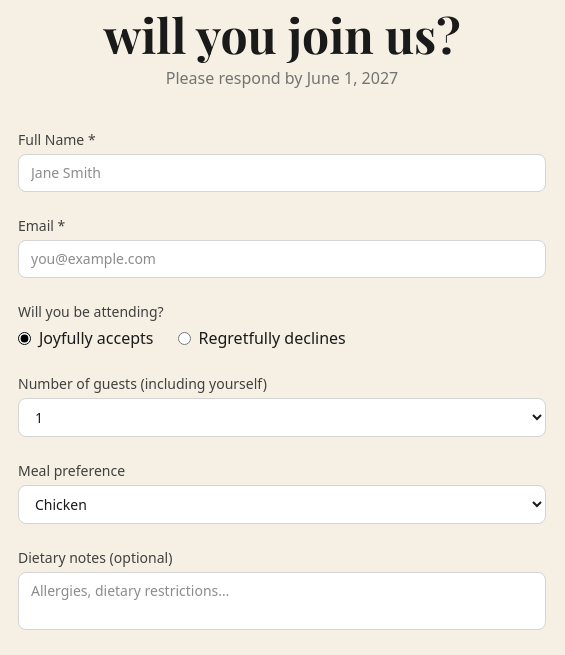
it: RSVPPage › shows validation error for empty name on blur
Click the field with placeholder "Jane Smith" at coordinates (282, 173), box [18,154,546,192]
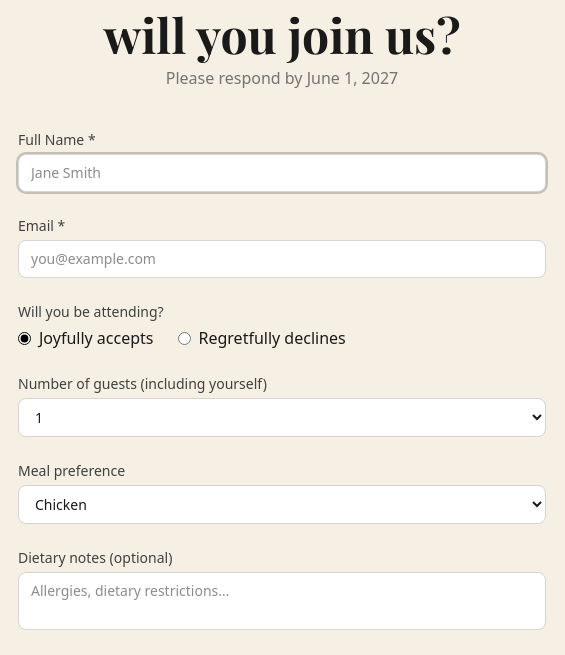
Press Tab
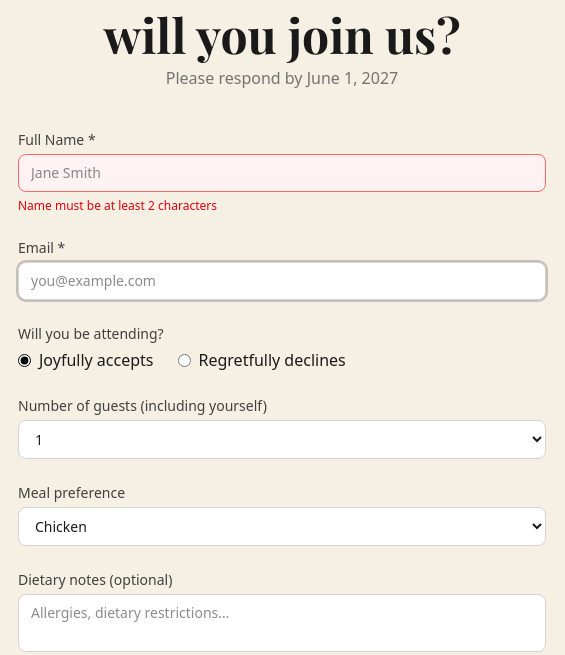
Expected: the text "Name must be at least 2 characters" is shown, [18,197,217,214]
